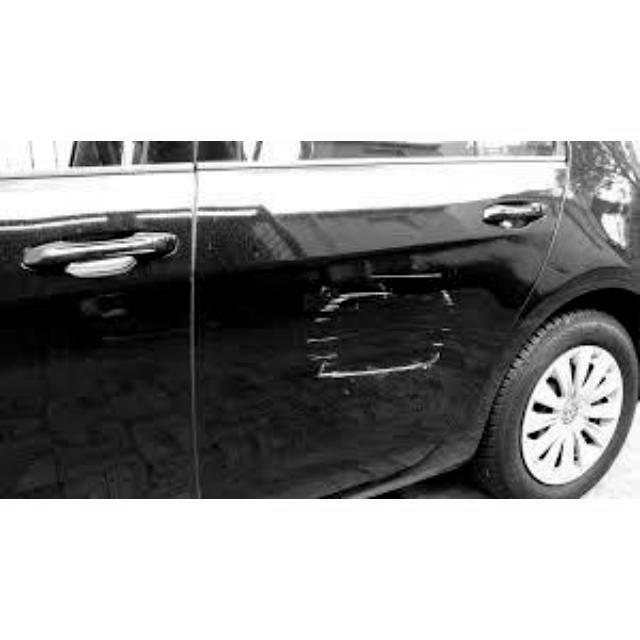doorouter-dent: (195, 159, 542, 496)
